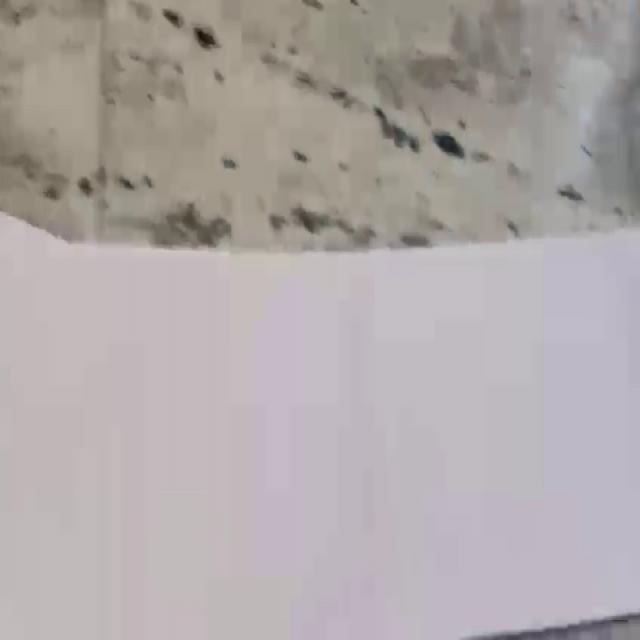road: (0, 213, 640, 640)
